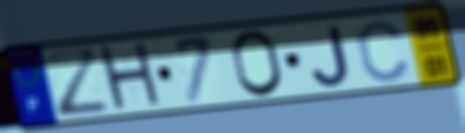7: (171, 31, 216, 108)
C: (355, 17, 413, 84)
H: (96, 39, 167, 116)
J: (309, 22, 353, 89)
O: (229, 28, 287, 100)
Z: (40, 46, 114, 121)
